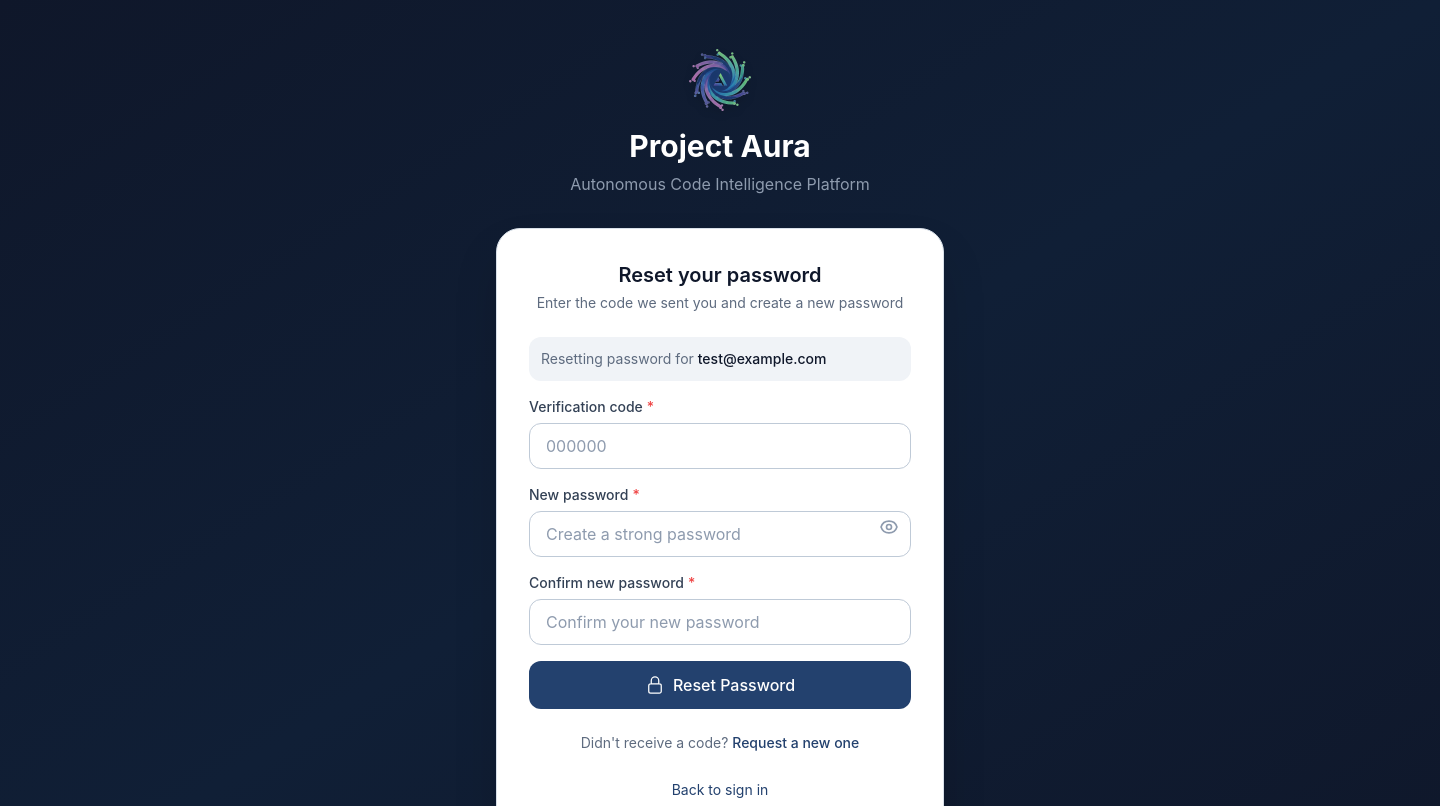
Test: ResetPasswordPage › shows success page after password reset
In the field labelled "Verification code*": (720,446) left=529, top=423, right=911, bottom=469, type "123456"
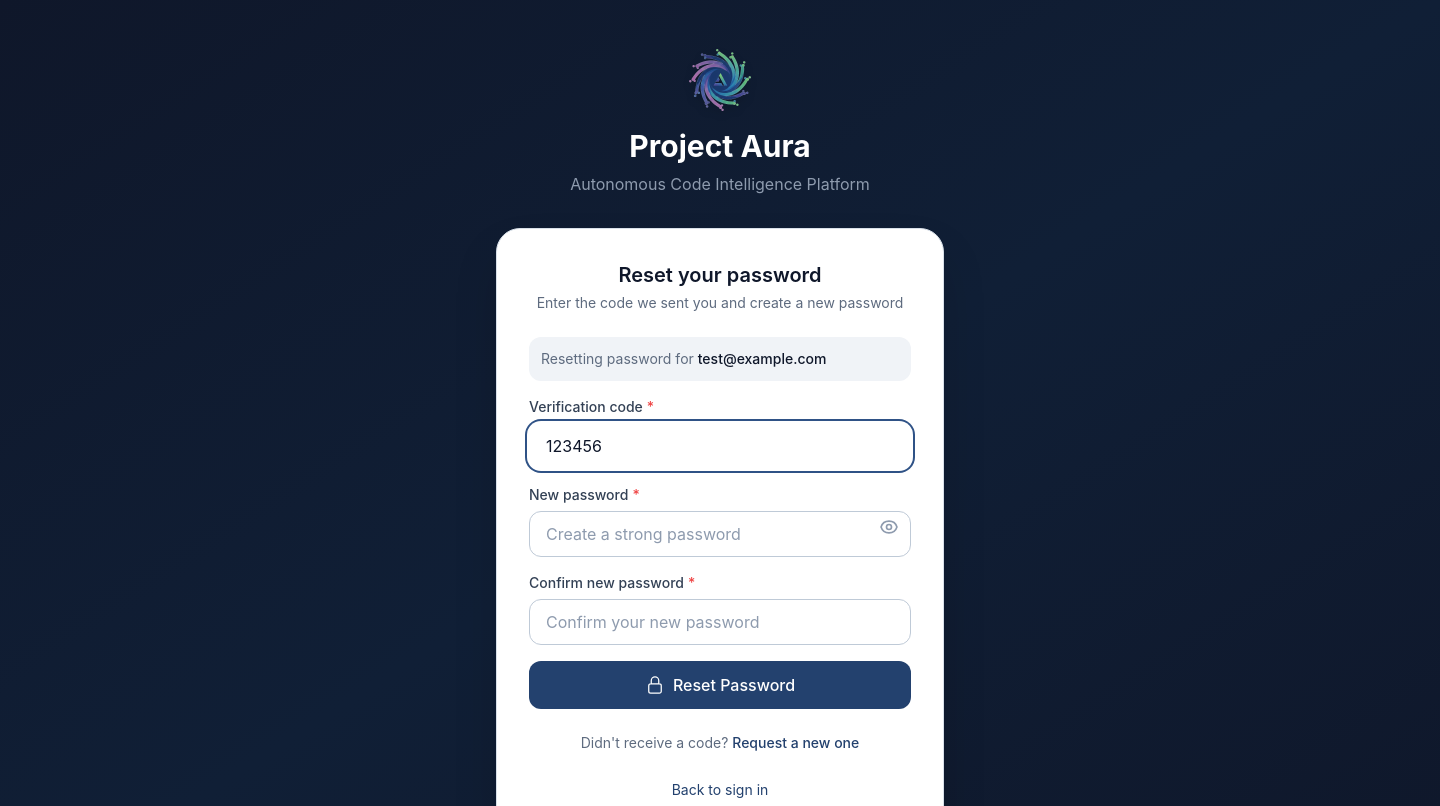
In the password field named "newPassword": (720,534) left=529, top=511, right=911, bottom=557, type "NewPassword123!"
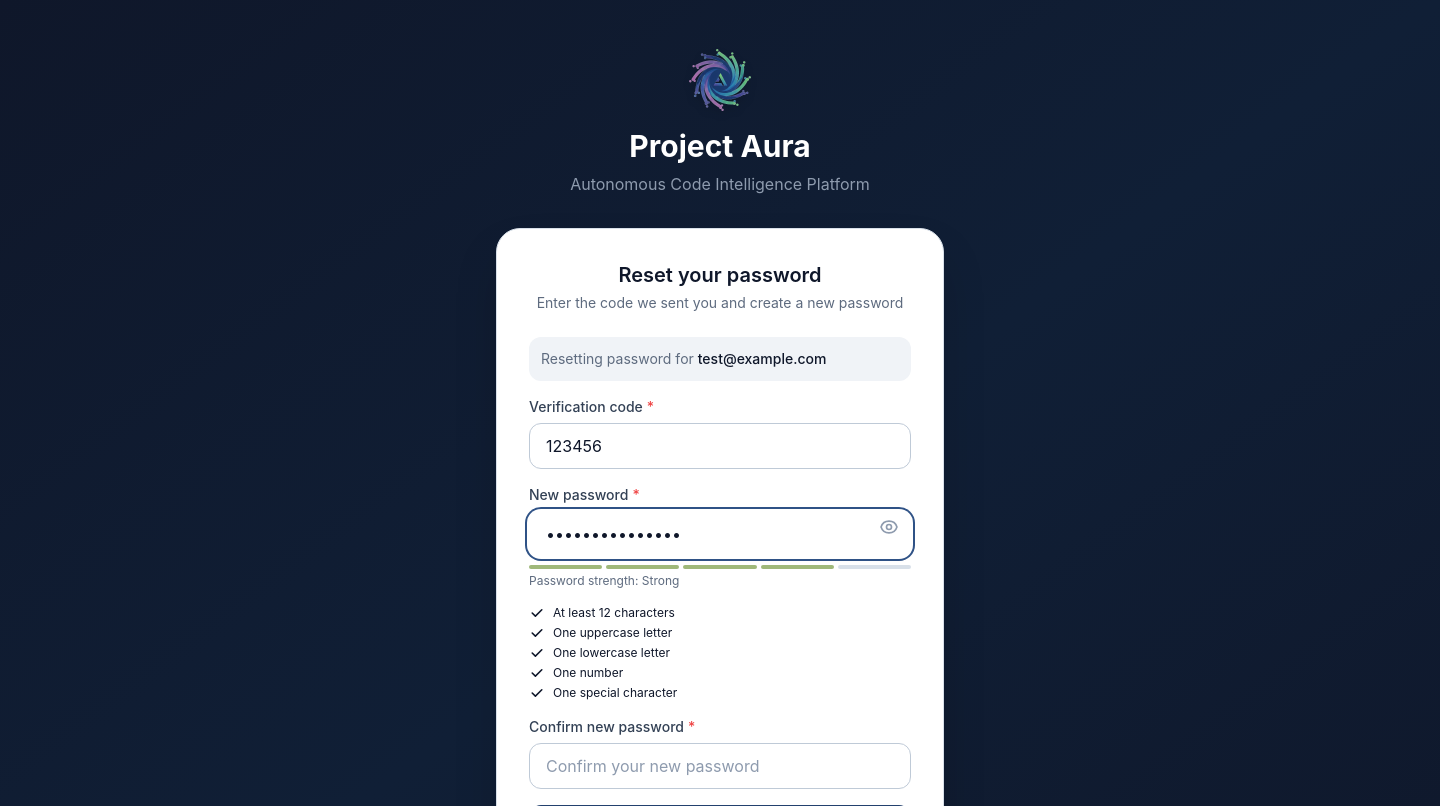
In the password field named "confirmPassword": (720,766) left=529, top=743, right=911, bottom=789, type "NewPassword123!"
(page scrolled)
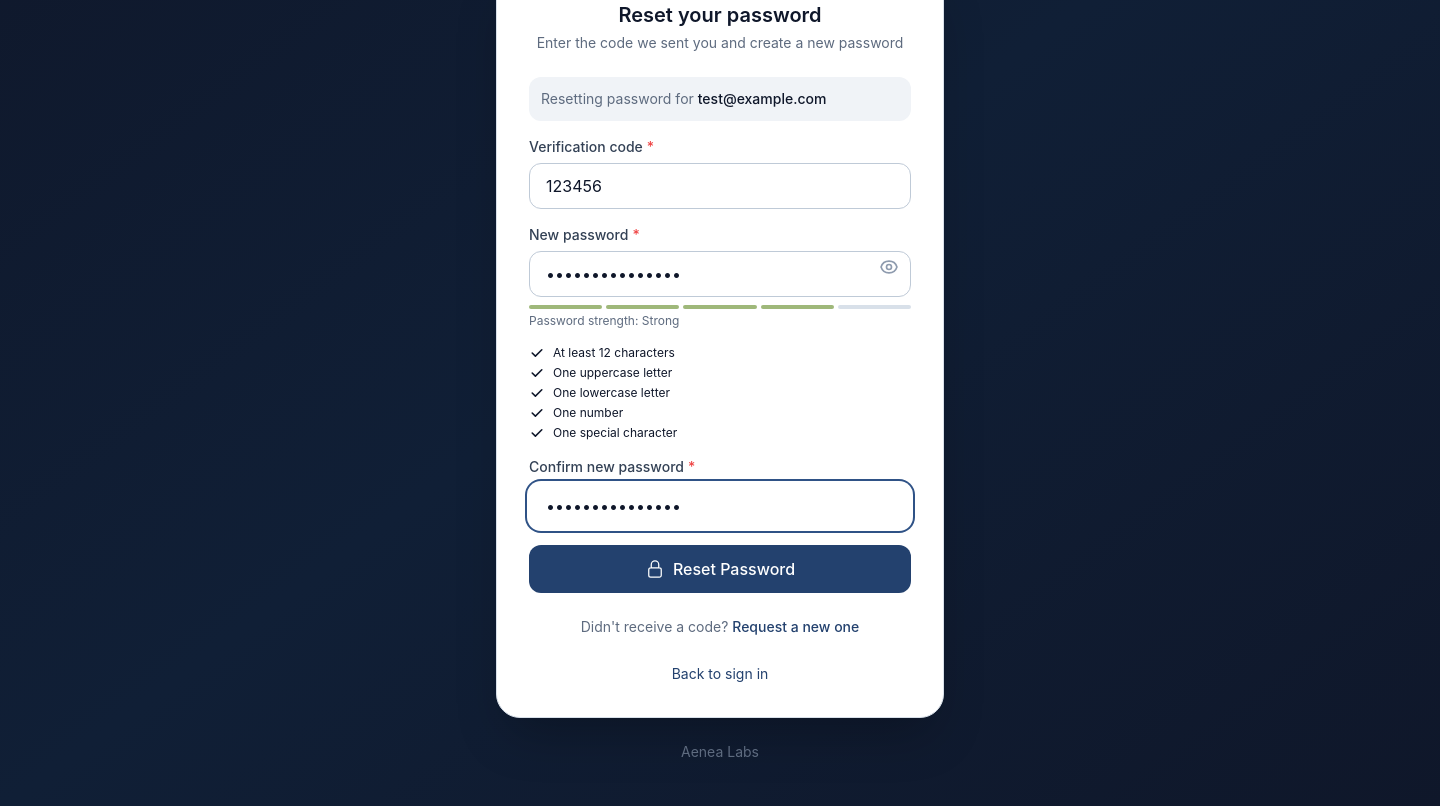
Click the button "Reset Password": (720,569) left=529, top=545, right=911, bottom=593
(page scrolled)
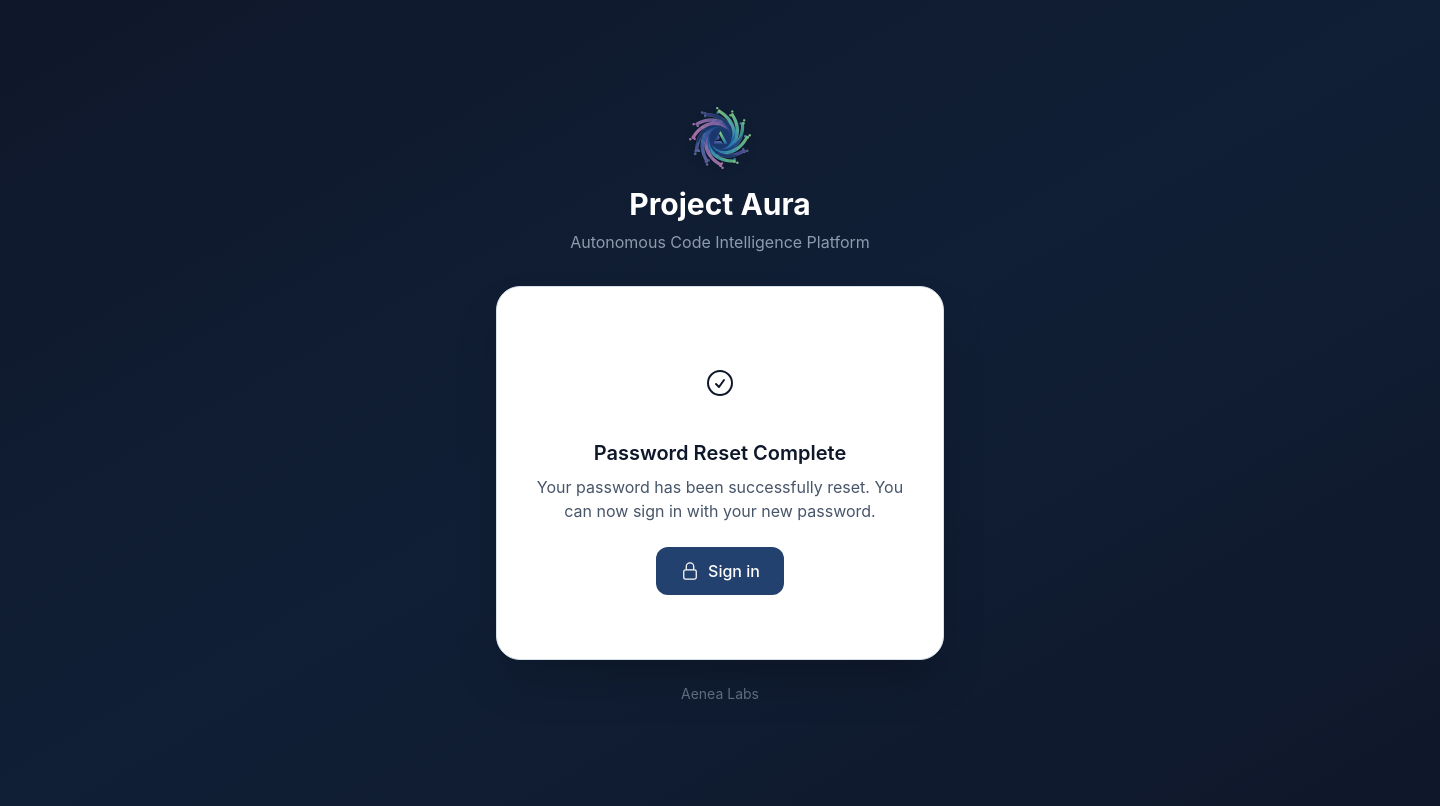
Expected: the heading "Password Reset Complete" is shown, left=594, top=441, right=846, bottom=465
